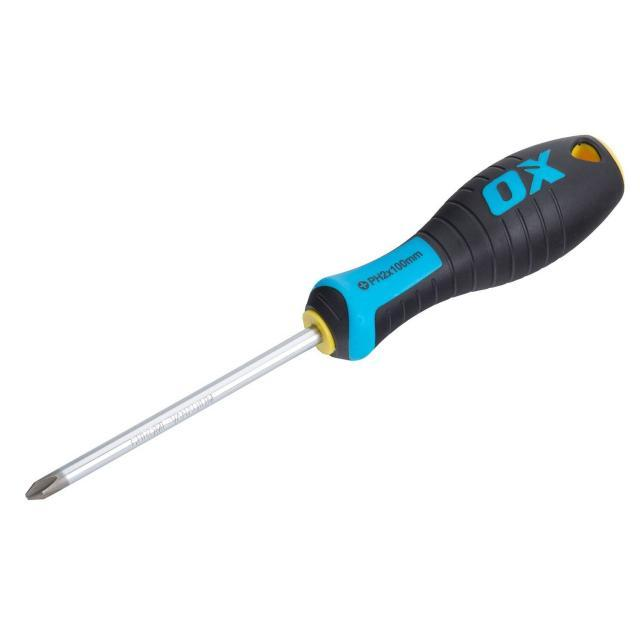screwdriver: (19, 130, 630, 507)
